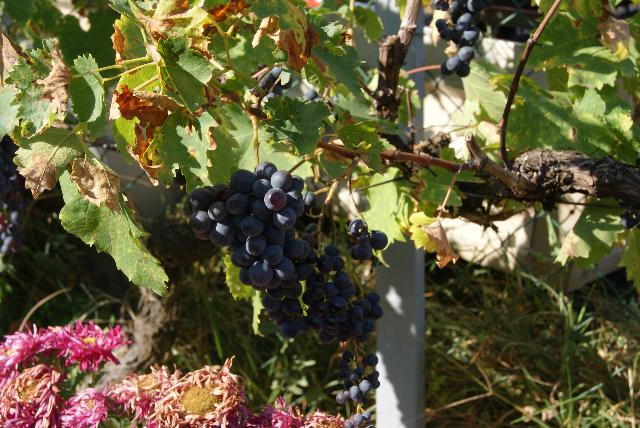grapes: (190, 161, 314, 339), (296, 222, 382, 344), (336, 349, 380, 405), (350, 229, 384, 262)
